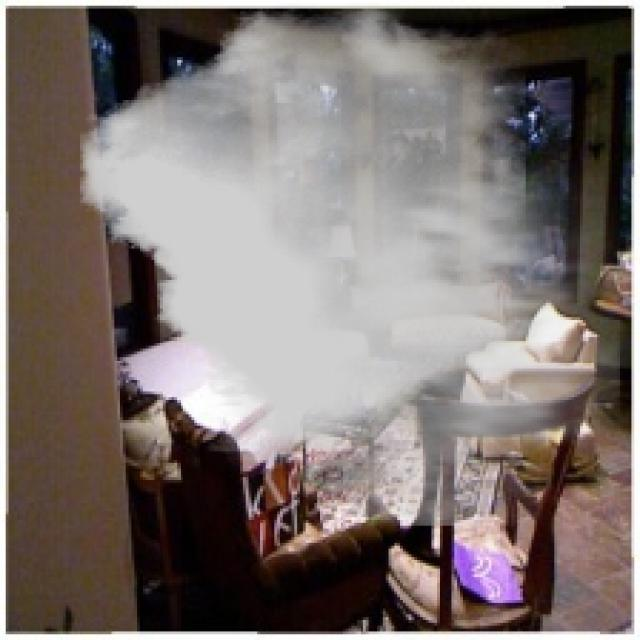Smoke: (80, 3, 620, 526)
